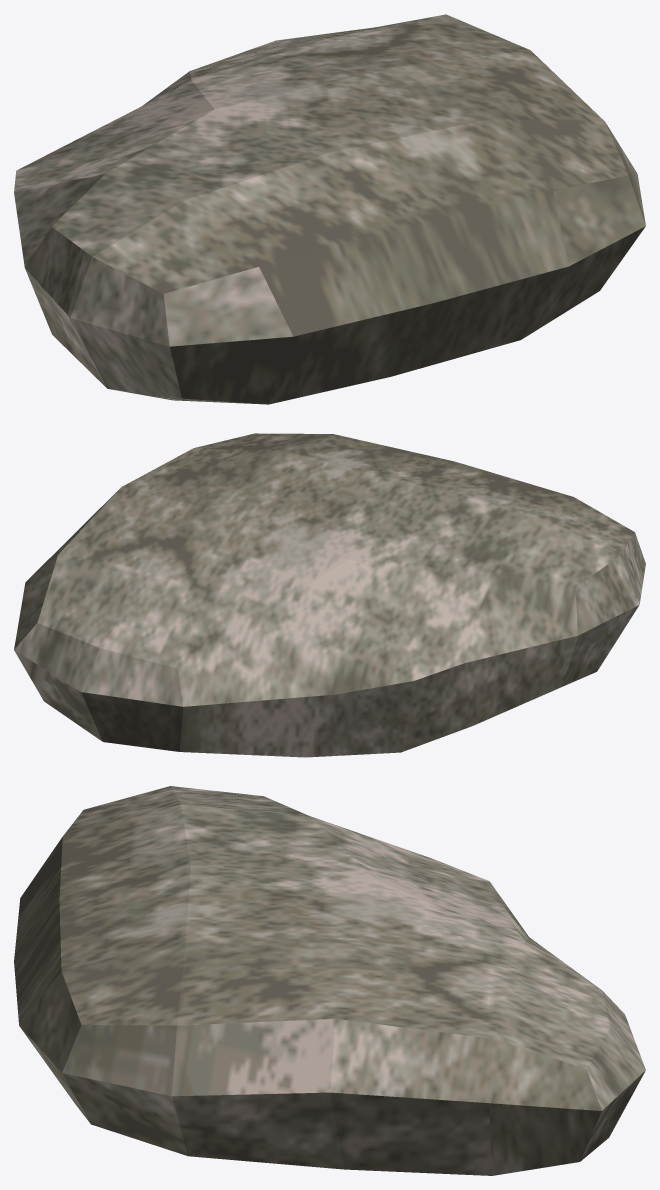
File: Stone_2.fbx
The picture shows the model from 3 angles, top to bottom: view 1: azimuth 30°, elevation 25°; view 2: azimuth 150°, elevation 25°; view 3: azimuth 270°, elevation 25°; orthographic projection. The views are drawn at different scales.
Visible parts, largest first — view 1: Cube.001; view 2: Cube.001; view 3: Cube.001.
Boxes of the visible parts, left/top/right/bottom form: Cube.001: left=14, top=14, right=645, bottom=404; Cube.001: left=14, top=433, right=645, bottom=757; Cube.001: left=14, top=786, right=645, bottom=1175.
Bounding box in the file's own units: 2.43 × 0.8911 × 2.33.
